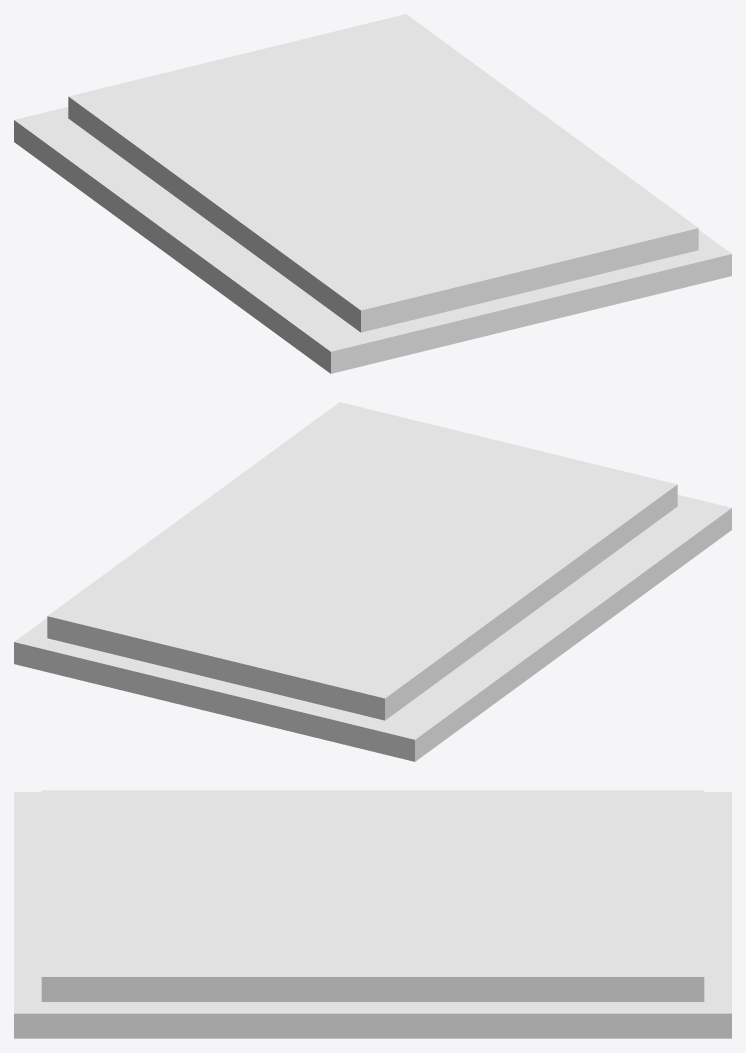
File: monitor.gltf
3 renders of one model, top to bottom at view 1: azimuth 30°, elevation 25°; view 2: azimuth 150°, elevation 25°; view 3: azimuth 270°, elevation 25°, orthographic. The views are drawn at different scales.
Visible parts, largest first — view 1: Layer.3, Layer.1, Layer.2; view 2: Layer.3, Layer.1, Layer.2; view 3: Layer.3, Layer.1.
Part boxes in pixels (x1,y1,x2,y2): Layer.3: (68, 14, 698, 332); Layer.1: (14, 107, 731, 373); Layer.2: (48, 118, 360, 337); Layer.3: (47, 402, 677, 720); Layer.1: (14, 495, 731, 761); Layer.2: (385, 506, 697, 725); Layer.3: (41, 790, 704, 1001); Layer.1: (14, 792, 731, 1038).
Size of the model in its own units: 19 by 2 by 26.
1 material, 1 textured.
